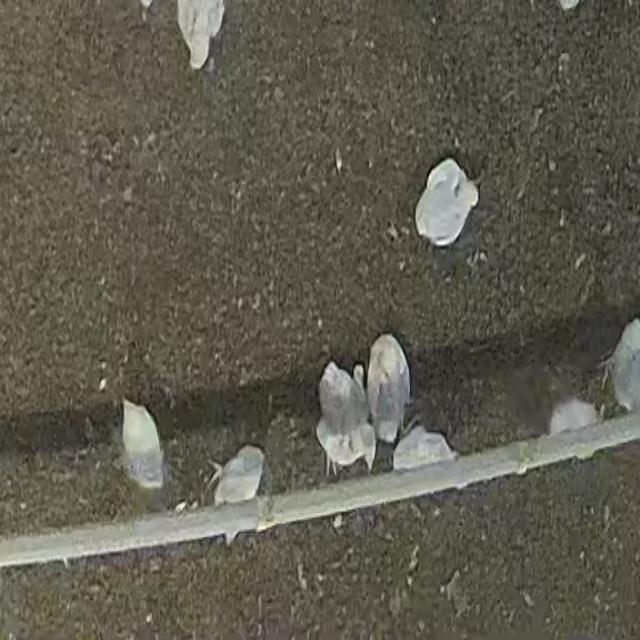chicken: (311, 358, 377, 476), (408, 150, 484, 250), (208, 436, 270, 553), (366, 332, 421, 446), (114, 390, 168, 497)
